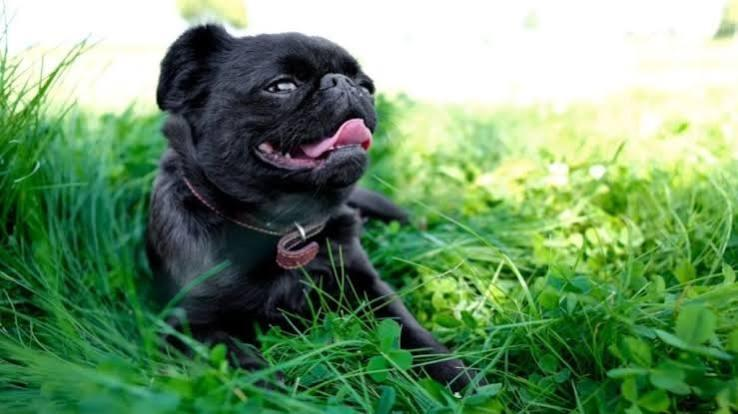adult_dog: (143, 19, 477, 400)
